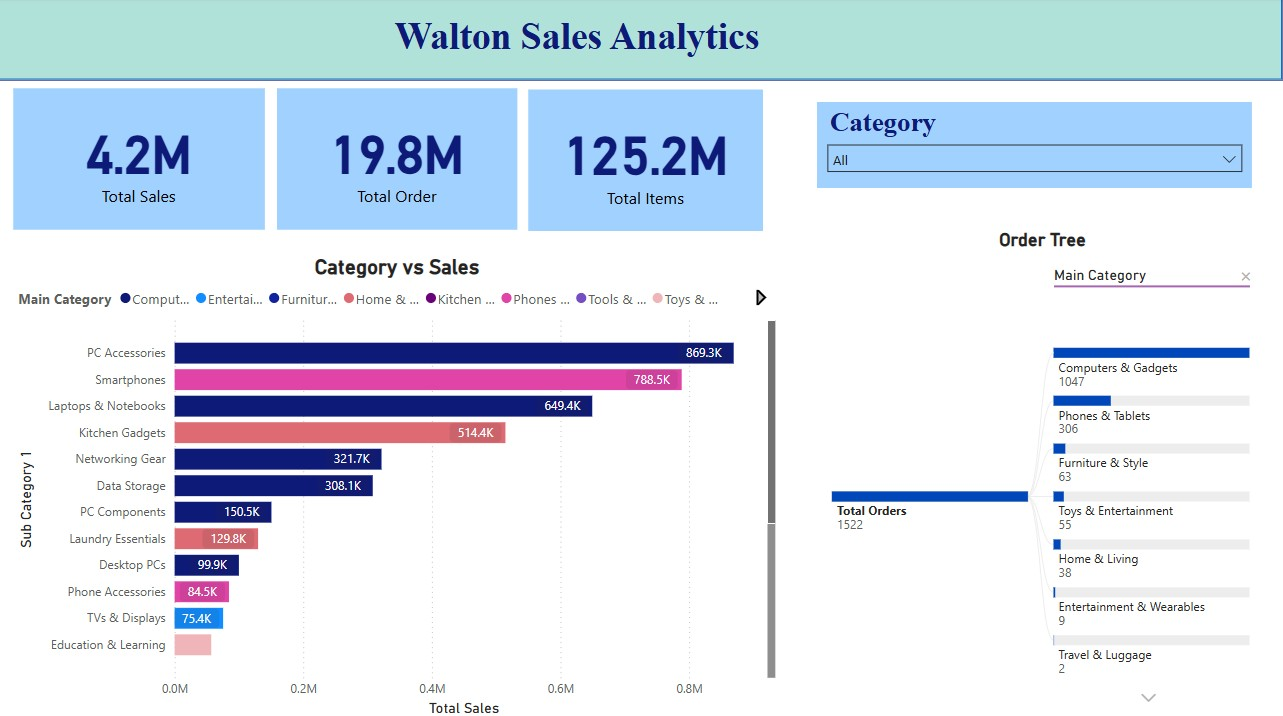

The page's visual inventory and layout, read from the dashboard file:
{"tool":"powerbi","page":{"name":"Sales Performance","canvas":[1280,720],"ordinal":0},"visuals":[{"type":"card","fields":{"Values":["Sum(Sales.amount)"]},"box":[16.3,90.7,310.5,140.7],"z":0},{"type":"card","fields":{"Values":["Sum(Sales.order_id)"]},"box":[479.1,90.7,320.9,140.7],"z":1000},{"type":"card","fields":{"Values":["Sum(Sales.order_item_id)"]},"box":[932.6,90.7,317.4,140.7],"z":2000},{"type":"decompositionTreeVisual","title":"Order Tree","fields":{"ExplainBy":["Sales.Main Category"],"Analyze":["CountNonNull(Sales.order_id)"]},"box":[16.3,245.3,479.1,464],"z":3000},{"type":"barChart","title":"Catogary vs Sales","fields":{"Category":["Sales.Main Category","Sales.Sub_Category_1","Product.prdouct_name"],"Y":["Sum(Sales.amount)"],"Series":["Product.Main Category"]},"box":[516.3,245.3,764,464],"z":4000},{"type":"shape","box":[0,0,1280,83.3],"z":5000},{"type":"textbox","box":[390.6,12.4,385.6,53.5],"z":6000}]}

Visuals, with their boxes in screenshot pixels (x1, y1, x2, y2), scaled from the page's 1280x720 canvas onto the 1283x716 screenshot:
card - Sum(Sales.amount): bbox=(16, 90, 328, 230)
card - Sum(Sales.order_id): bbox=(480, 90, 802, 230)
card - Sum(Sales.order_item_id): bbox=(935, 90, 1253, 230)
"Order Tree" decompositionTreeVisual: bbox=(16, 244, 497, 705)
"Catogary vs Sales" barChart: bbox=(518, 244, 1282, 705)
shape: bbox=(0, 0, 1282, 83)
textbox: bbox=(392, 12, 778, 66)
